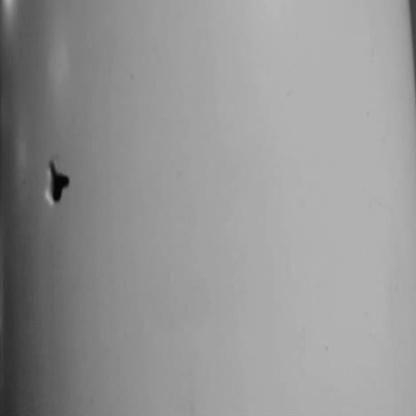kongdong: (42, 159, 78, 203)
